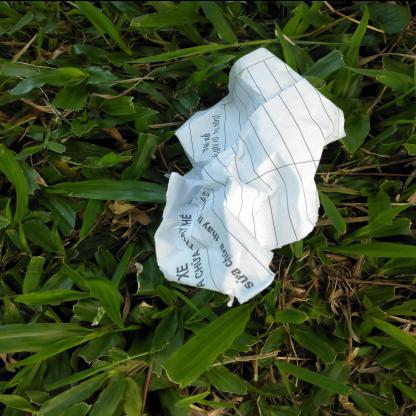kagit: (154, 48, 350, 304)
